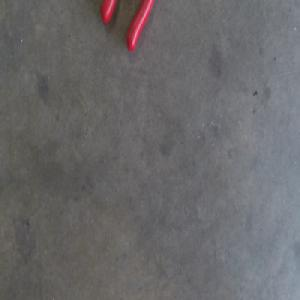Pliers: (99, 0, 155, 51)
